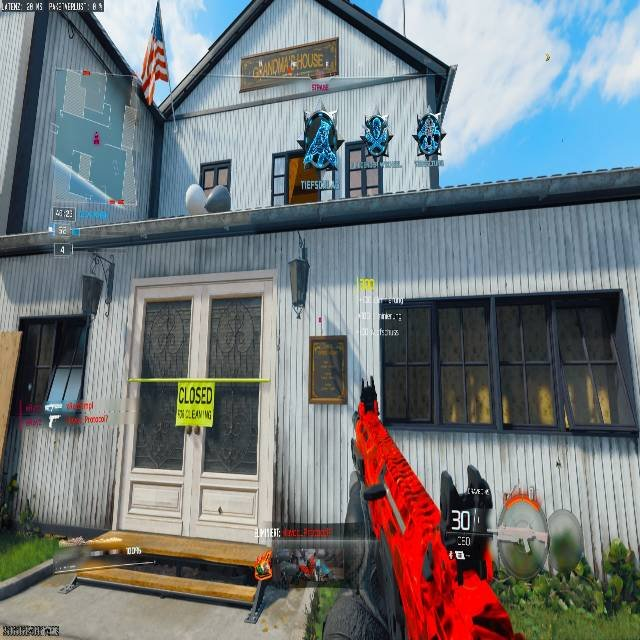head: (310, 107, 331, 127), (368, 115, 384, 132)
player: (296, 107, 341, 202), (413, 111, 446, 164), (359, 115, 393, 164)
